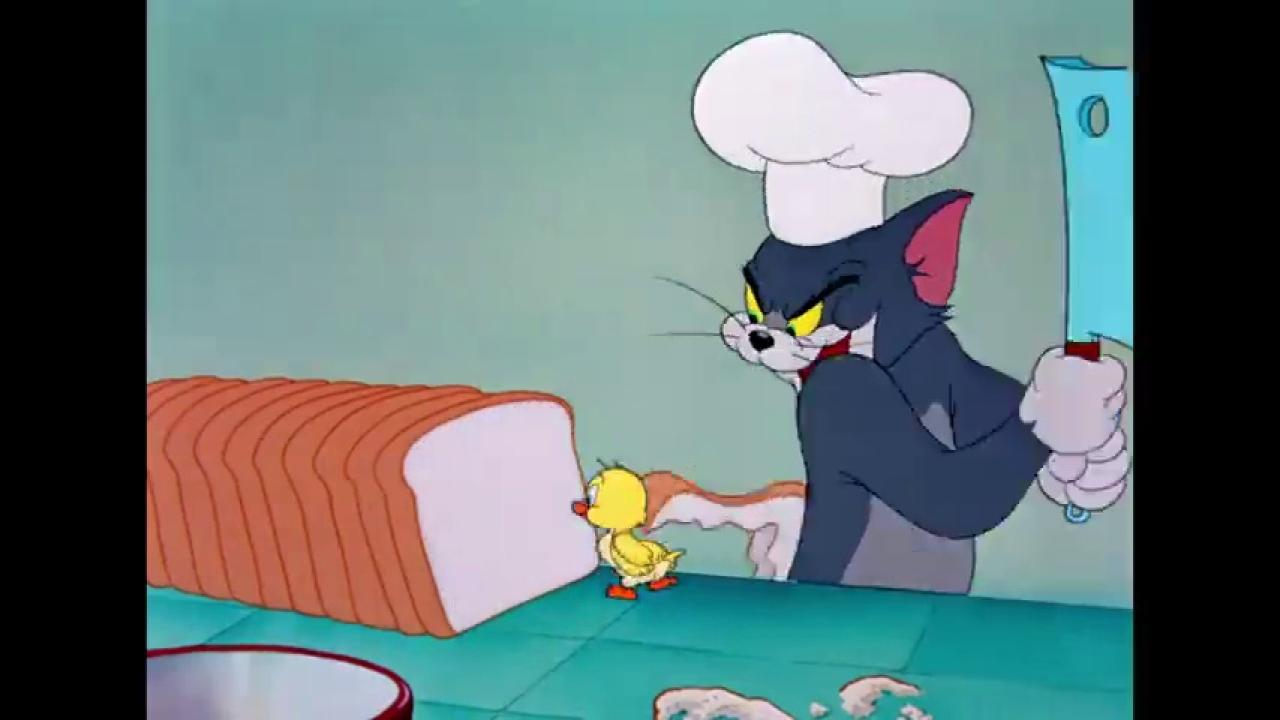Tom: (718, 184, 1133, 595)
